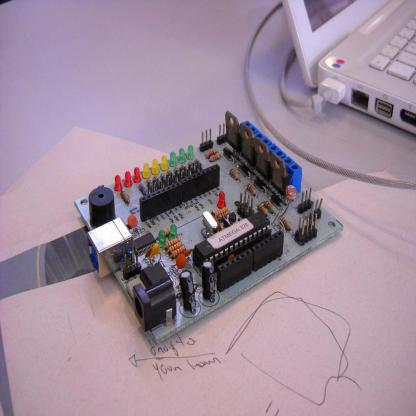board: (281, 0, 416, 133)
